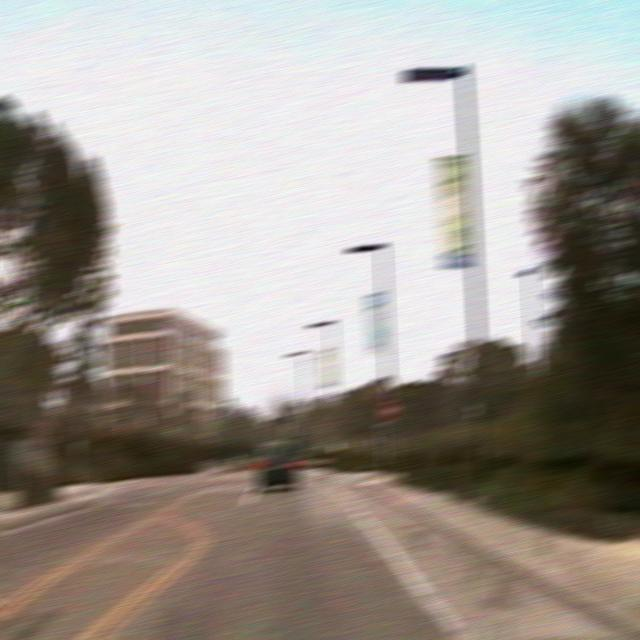stop_sign: (376, 398, 399, 422)
